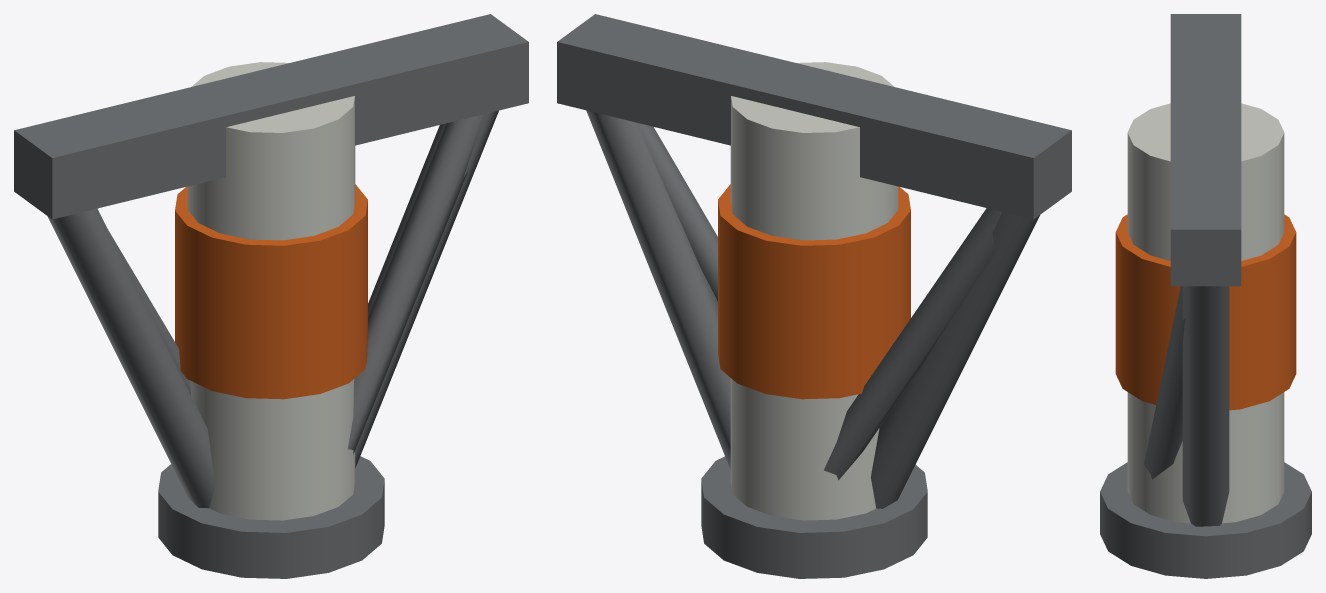
Rendered from po4_leg.obj.
The picture shows the model from 3 angles, left to right: view 1: azimuth 30°, elevation 25°; view 2: azimuth 150°, elevation 25°; view 3: azimuth 270°, elevation 25°; orthographic projection. The views are drawn at different scales.
Visible parts, largest first — view 1: po4_leg; view 2: po4_leg; view 3: po4_leg.
Part boxes in pixels (x1,y1,x2,y2): po4_leg: [14, 14, 528, 578]; po4_leg: [557, 14, 1071, 578]; po4_leg: [1100, 14, 1311, 578].
Bounding box in the file's own units: 1.3 × 1.16 × 0.54.
